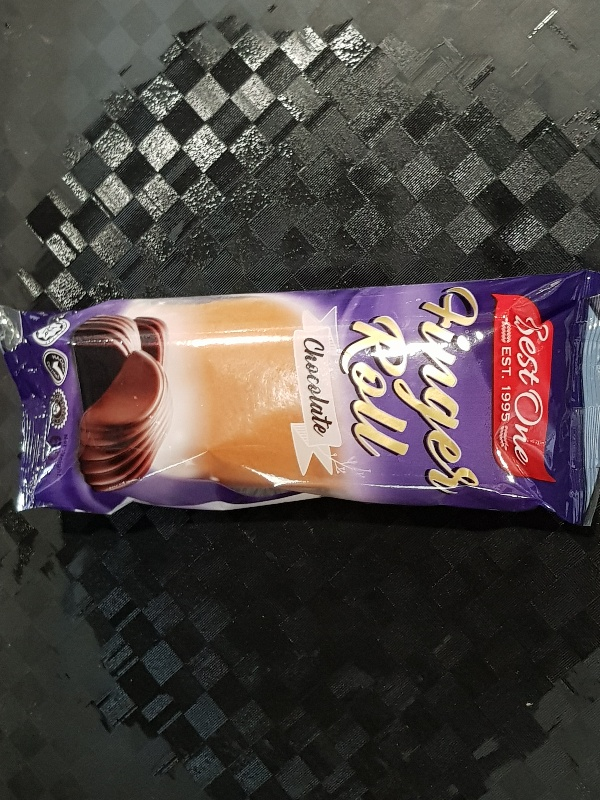Tinges Roll Chocolate: (1, 268, 600, 528)
